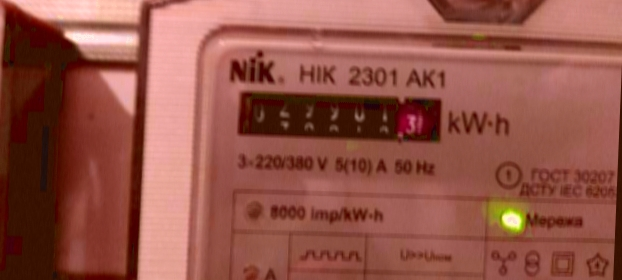0: (350, 97, 365, 122), (249, 100, 266, 121)
1: (375, 99, 389, 122)
2: (274, 98, 291, 117)
3: (402, 111, 415, 133)
9: (325, 98, 340, 120), (300, 97, 313, 119)
screen: (222, 79, 451, 152)
